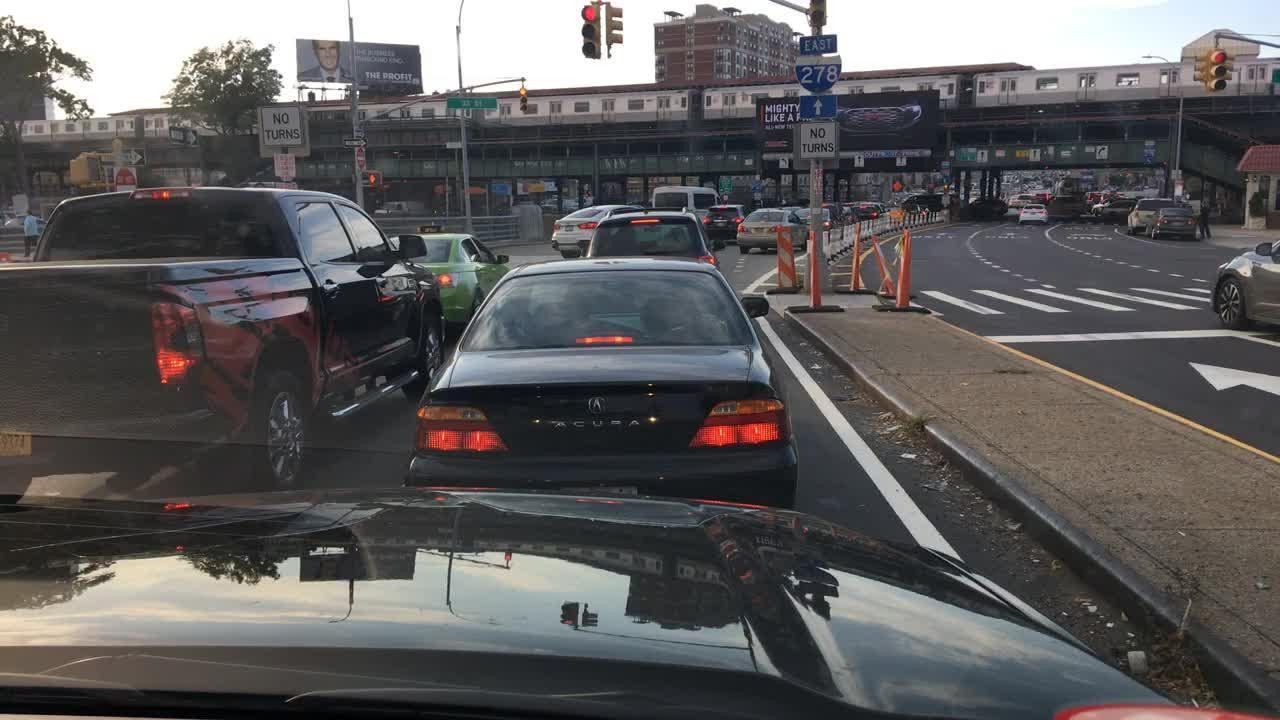acura: (582, 391, 608, 421)
